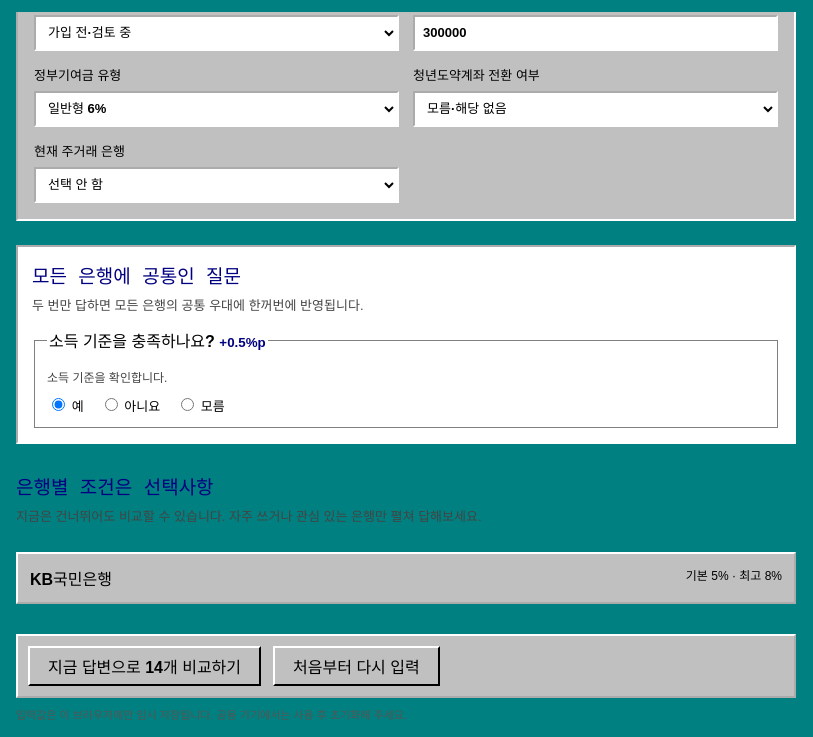
Test case: Phase 4 pages › stores the full plan and can reset every browser input
(page scrolled)
Expected: the dropdown labelled "현재 가입 상태" is shown, [34, 15, 399, 51]
Expected: the dropdown labelled "현재 주거래 은행" is shown, [34, 167, 399, 203]
Click the button "처음부터 다시 입력". click: (356, 666)
box: [273, 646, 440, 686]
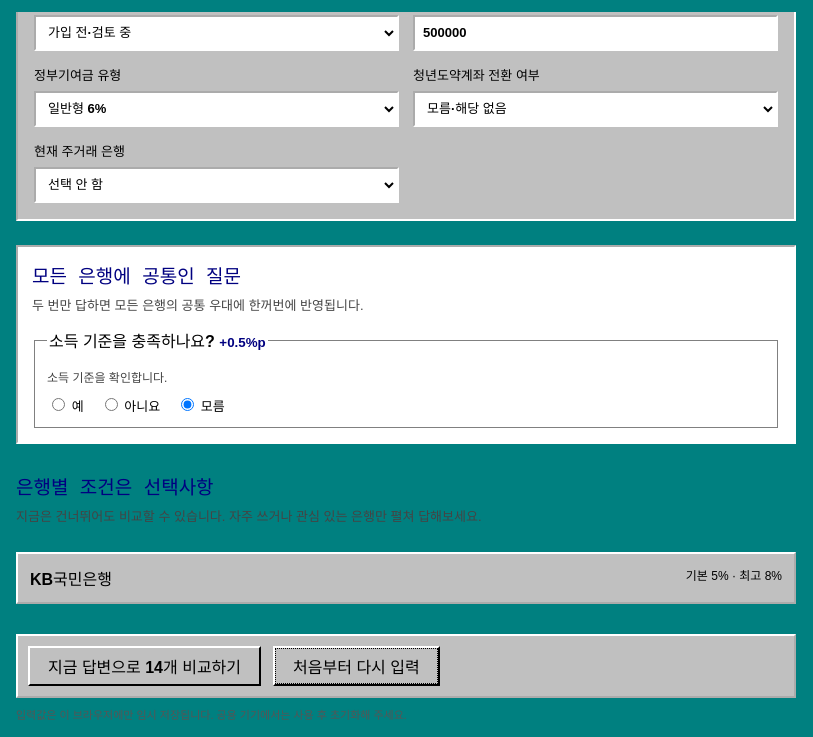
Expected: the number field labelled "매달 넣을 금액" holds "500000", [413, 15, 778, 51]
